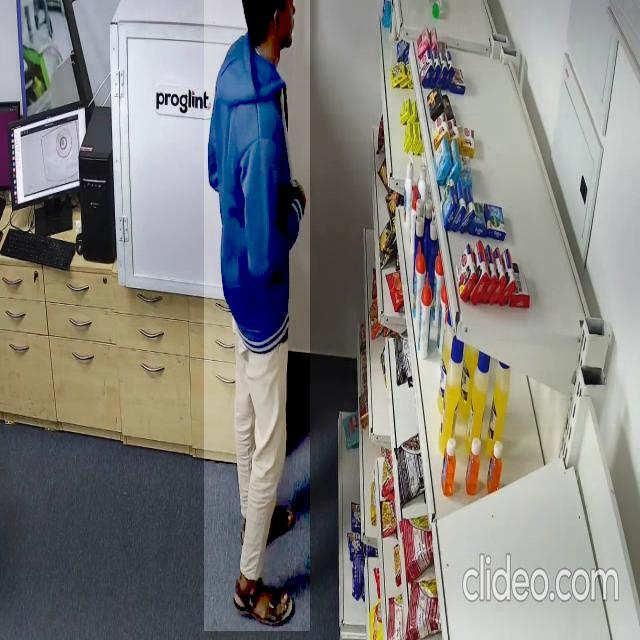Shoplifting: (204, 0, 310, 631)
